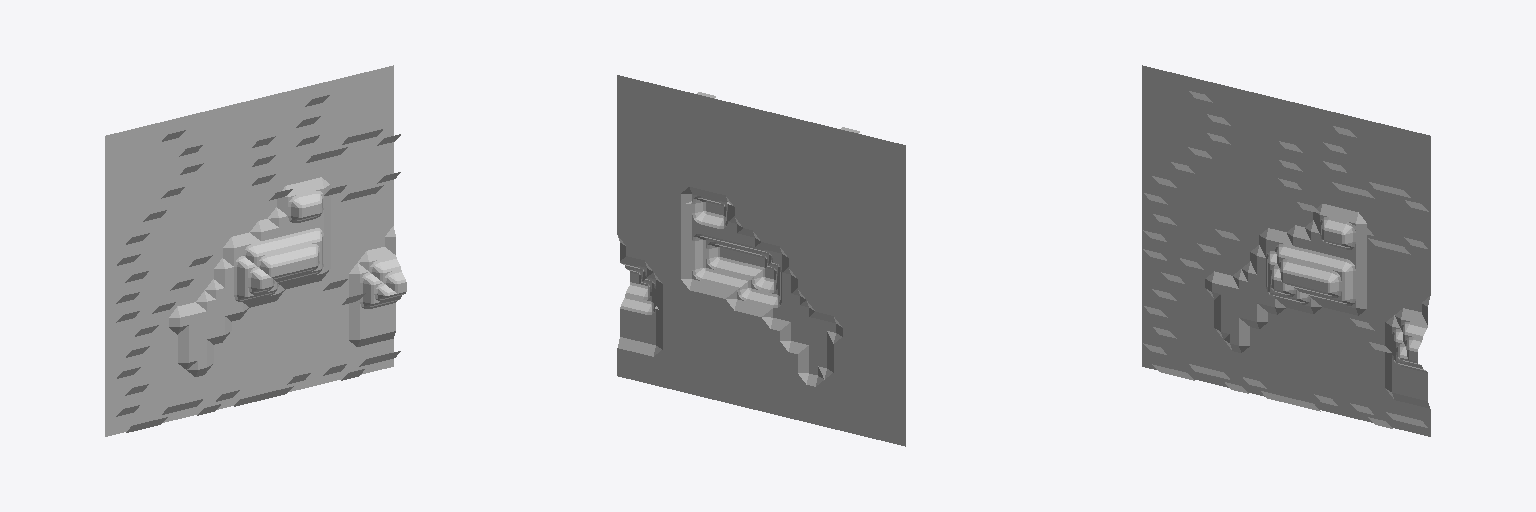
The model's file is Plat_full_04_22.obj.
3 renders of one model, left to right at view 1: azimuth 30°, elevation 25°; view 2: azimuth 150°, elevation 25°; view 3: azimuth 330°, elevation 25°, orthographic.
Visible parts, largest first — view 1: map; view 2: map; view 3: map.
Part boxes in pixels (x1,y1,x2,y2): map: (105, 65, 406, 436); map: (617, 75, 905, 446); map: (1142, 65, 1430, 436).
Bounding box in the file's own units: 32 × 32 × 2.5.